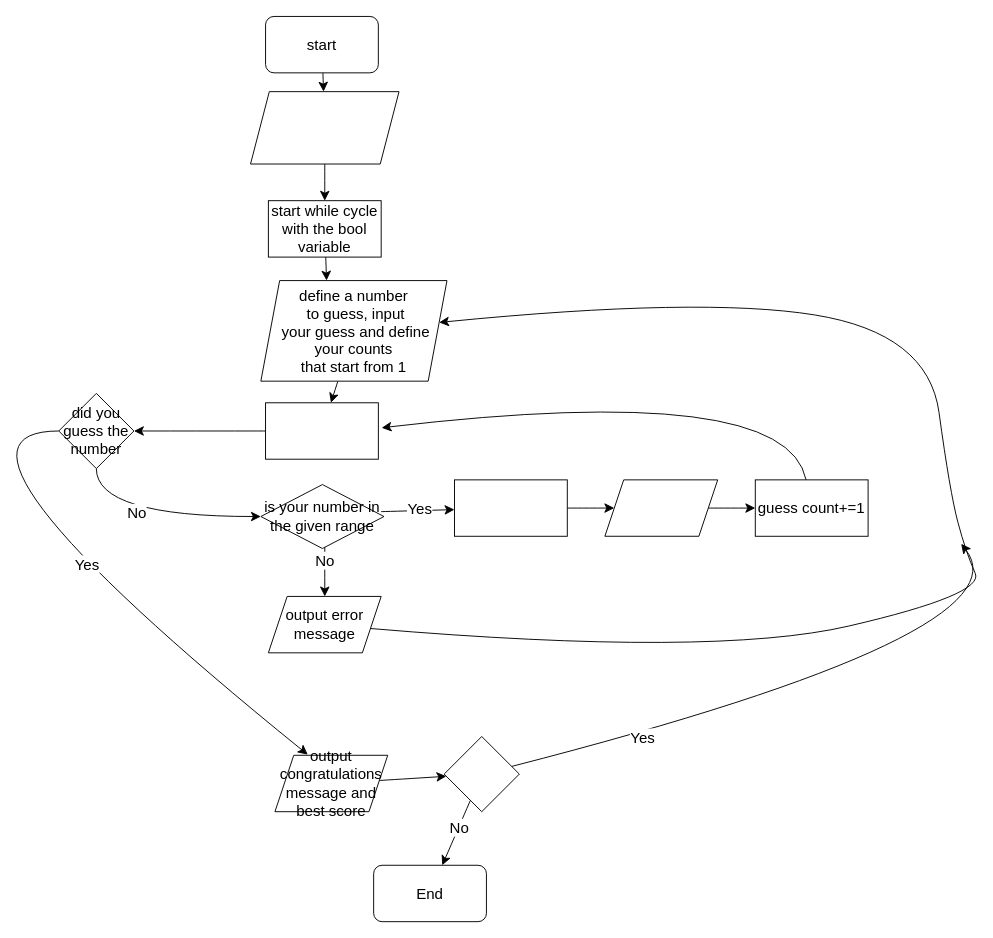
Image size: 993x938. Some labels were removed from this diagram. The box of each missing label's shape, as (x1, y1, x2, y2) in pixels:
check if your number is too high or too low: (454, 479, 567, 536)
does the player want to continue: (443, 736, 519, 812)
Import random, define bool variable and minAttempts: (250, 91, 399, 164)
Input your next guess: (604, 479, 718, 536)
while cycle untill you guess the number: (265, 402, 378, 459)
